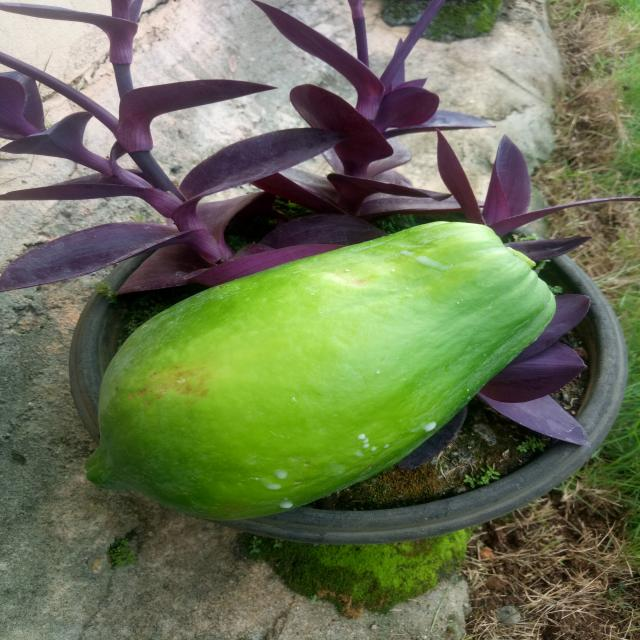Pepaya unrippen: (64, 215, 567, 527)
